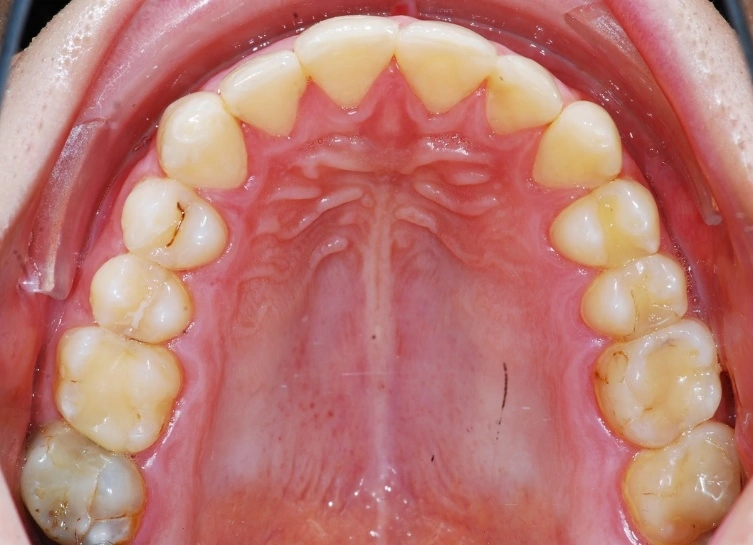UL1BC_healthy: (548, 185, 660, 263)
UL1M_healthy: (601, 335, 723, 430)
UL2BC_healthy: (587, 256, 682, 333)
UL2M_healthy: (629, 423, 743, 538)
ULCI_healthy: (395, 21, 492, 119)
ULC_healthy: (535, 105, 620, 187)
ULLI_healthy: (490, 59, 563, 132)
UR1BC_decay: (120, 177, 230, 264)
UR1M_healthy: (60, 328, 179, 450)
UR2BC_healthy: (90, 258, 196, 339)
UR2M_decay: (26, 438, 145, 541)
URCI_healthy: (297, 17, 394, 109)
URC_healthy: (159, 98, 253, 193)
URLI_healthy: (227, 63, 305, 135)
